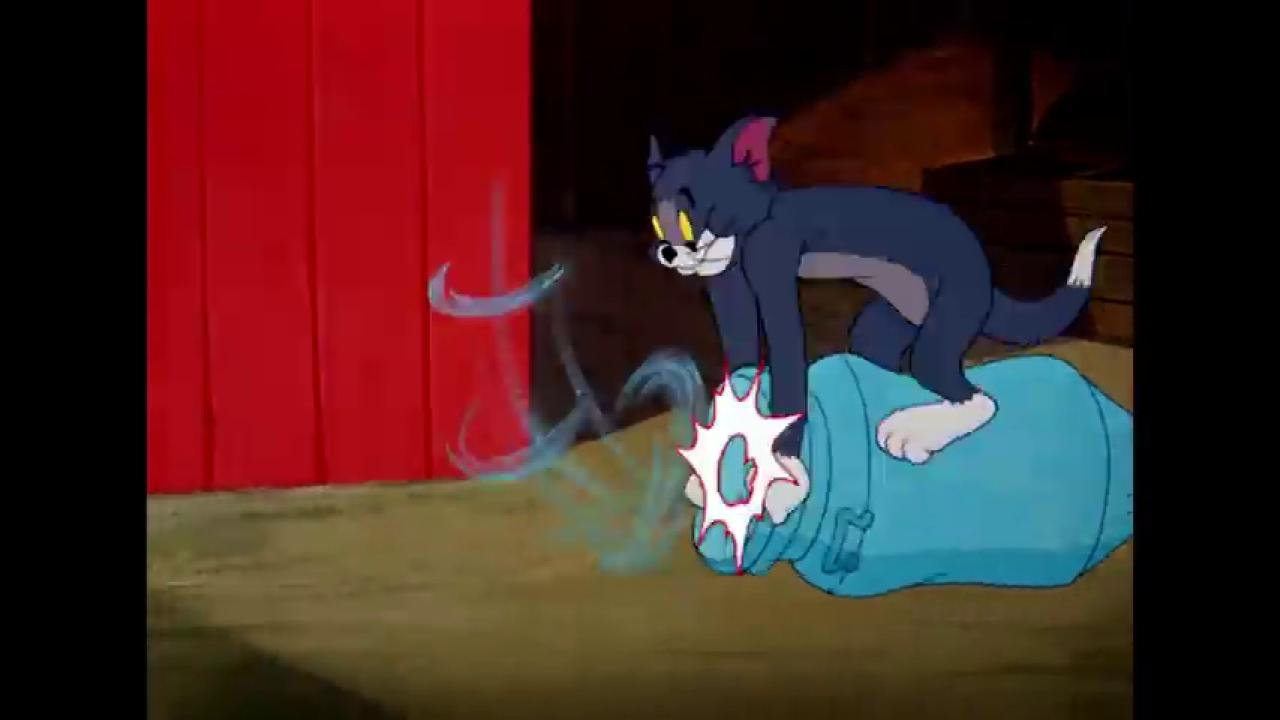Tom: (648, 110, 1107, 525)
